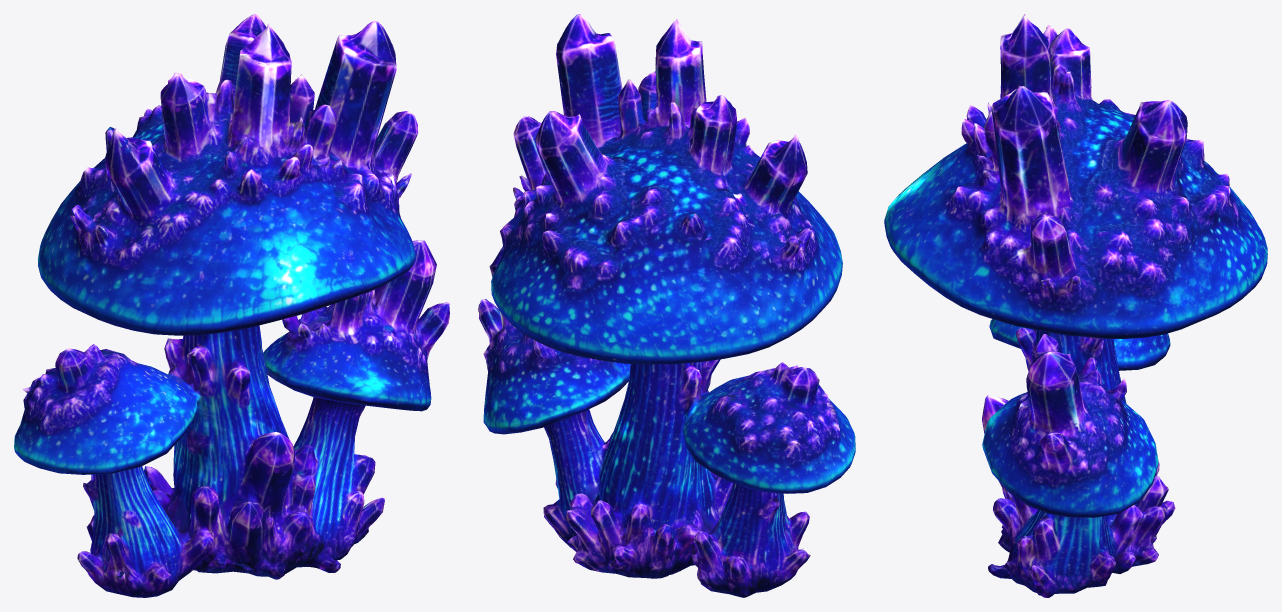
File: MushroomCrystal.fbx
3 renders of one model, left to right at view 1: azimuth 30°, elevation 25°; view 2: azimuth 150°, elevation 25°; view 3: azimuth 270°, elevation 25°, orthographic. The views are drawn at different scales.
Parts seen in each view (by area): view 1: Meshy_Mesh0; view 2: Meshy_Mesh0; view 3: Meshy_Mesh0.
Part boxes in pixels (x1=…): Meshy_Mesh0: x1=14, y1=14, x2=449, y2=597; Meshy_Mesh0: x1=478, y1=14, x2=855, y2=597; Meshy_Mesh0: x1=884, y1=14, x2=1267, y2=597.
Size of the model in its own units: 147 by 123 by 191.
Materials: 1 (1 with a texture image).
